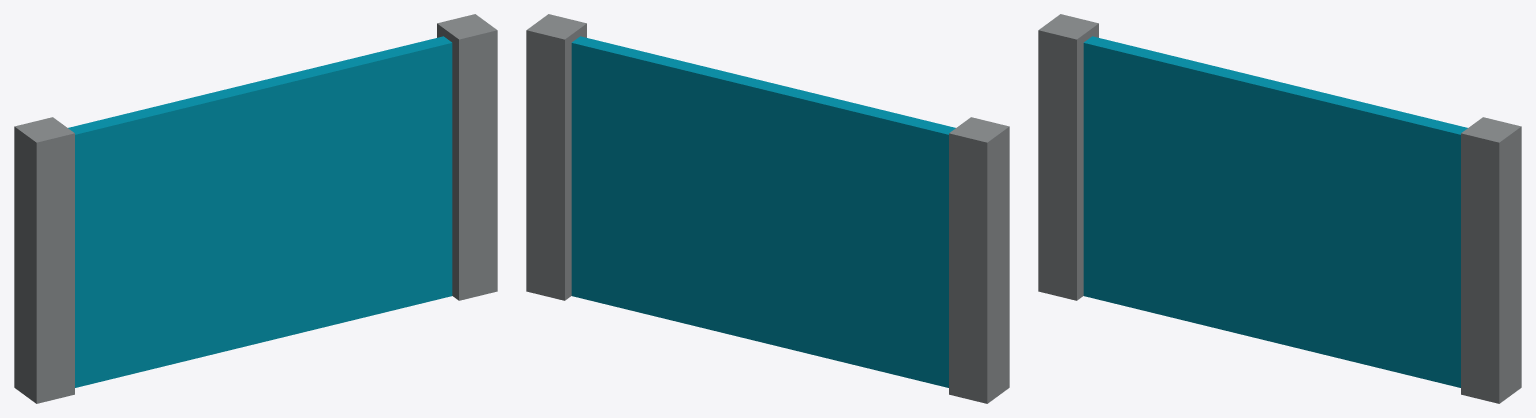
Rendered from Fantastic Wolt.glb.
3 views of the same model, side by side, from view 1: azimuth 30°, elevation 25°; view 2: azimuth 150°, elevation 25°; view 3: azimuth 330°, elevation 25° (orthographic).
Parts seen in each view (by area): view 1: Mesh_Mesh_head_geo.001_lambert2SG.001; view 2: Mesh_Mesh_head_geo.001_lambert2SG.001; view 3: Mesh_Mesh_head_geo.001_lambert2SG.001.
Part boxes in pixels (bbox=[...]): Mesh_Mesh_head_geo.001_lambert2SG.001: bbox=[14, 14, 497, 403]; Mesh_Mesh_head_geo.001_lambert2SG.001: bbox=[526, 14, 1009, 403]; Mesh_Mesh_head_geo.001_lambert2SG.001: bbox=[1038, 14, 1521, 403].
Bounding box in the file's own units: 120 × 65 × 10.
